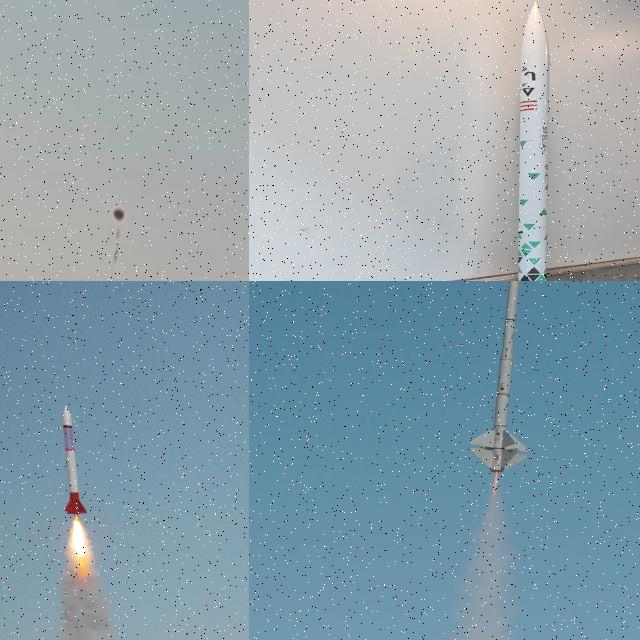Rocket: (468, 281, 530, 474), (518, 1, 549, 281), (62, 404, 88, 514)
